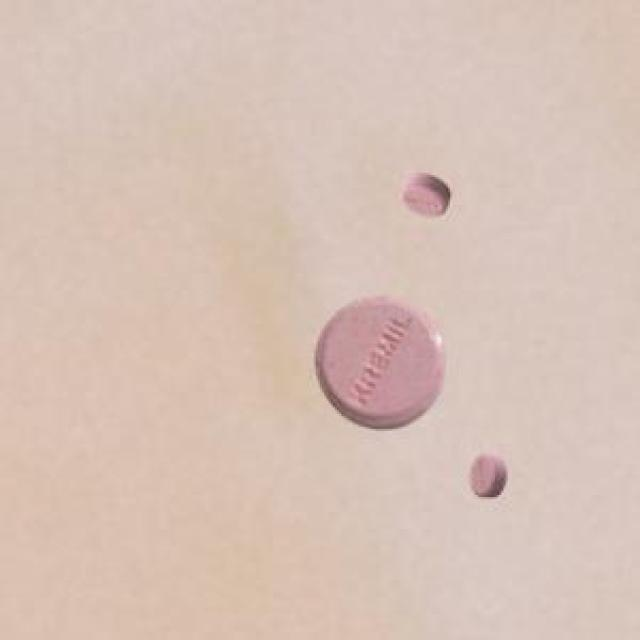Kremil_S: (305, 293, 453, 439), (392, 159, 462, 231), (463, 439, 522, 507)
